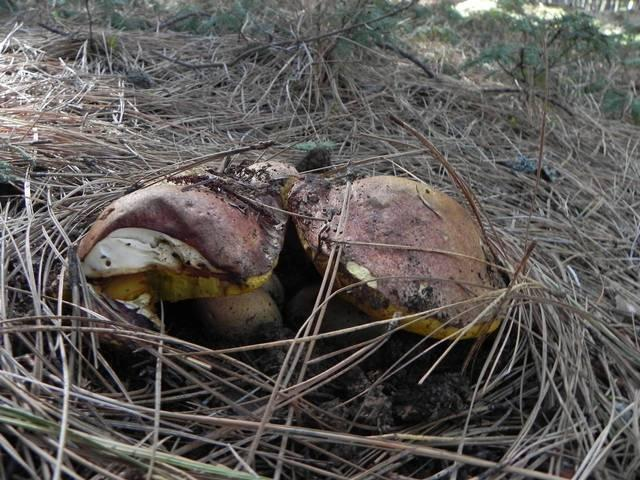Edible Mushroom: (285, 168, 507, 344), (74, 169, 291, 346)
